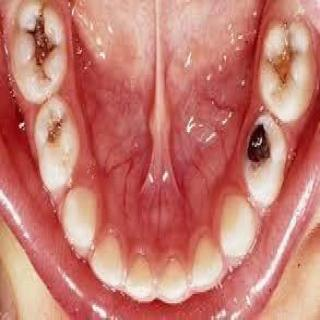LL1BC_sdecay: (244, 114, 287, 208)
LL2BC_sdecay: (258, 18, 314, 121)
LLCI_healthy: (157, 256, 188, 302)
LLC_healthy: (219, 194, 255, 256)
LLLI_healthy: (190, 233, 224, 288)
LR1BC_sdecay: (32, 96, 78, 189)
LR2BC_sdecay: (12, 1, 68, 103)
LRCI_healthy: (126, 256, 155, 301)
LRC_healthy: (64, 186, 96, 252)
LRLI_healthy: (90, 236, 124, 286)
